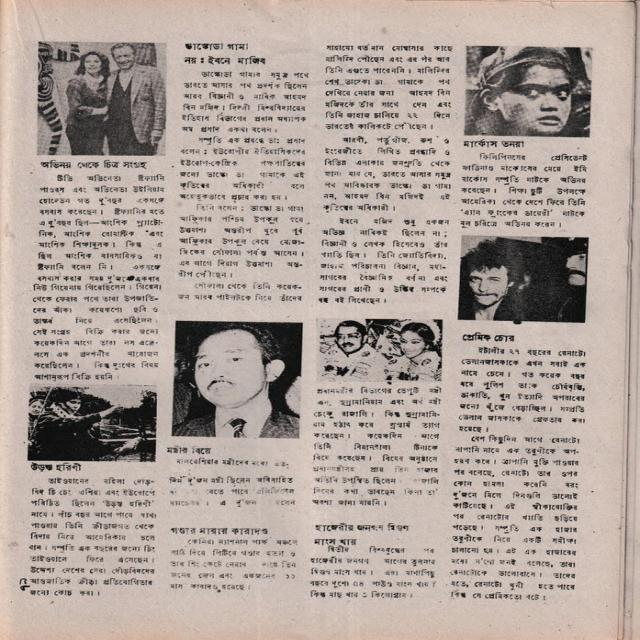image: (170, 319, 305, 440), (34, 39, 170, 158), (462, 45, 595, 139), (455, 234, 591, 324), (26, 382, 159, 463), (315, 317, 444, 383)
page number: (18, 577, 32, 593)
paragraph: (30, 172, 167, 382), (449, 434, 582, 601), (309, 385, 443, 508), (28, 476, 158, 598), (316, 216, 451, 305), (458, 345, 589, 434), (322, 43, 454, 131), (457, 150, 591, 230), (322, 134, 453, 215), (176, 202, 308, 280), (623, 109, 640, 639), (177, 135, 307, 203), (180, 69, 311, 134), (168, 537, 299, 592), (308, 545, 438, 600), (167, 457, 299, 509), (176, 281, 304, 303)
title: (311, 521, 411, 546), (182, 40, 270, 66), (37, 158, 152, 171), (169, 526, 270, 535), (462, 138, 526, 149), (461, 331, 517, 343), (28, 462, 83, 473), (165, 444, 213, 455)
